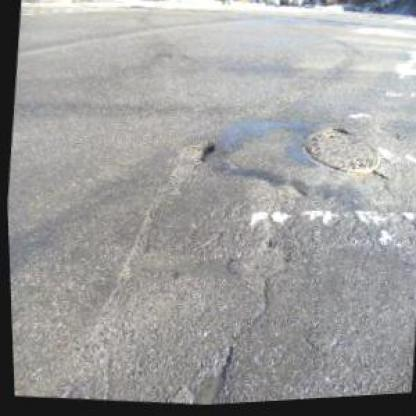pothole: (179, 346, 233, 406), (177, 137, 215, 168)
